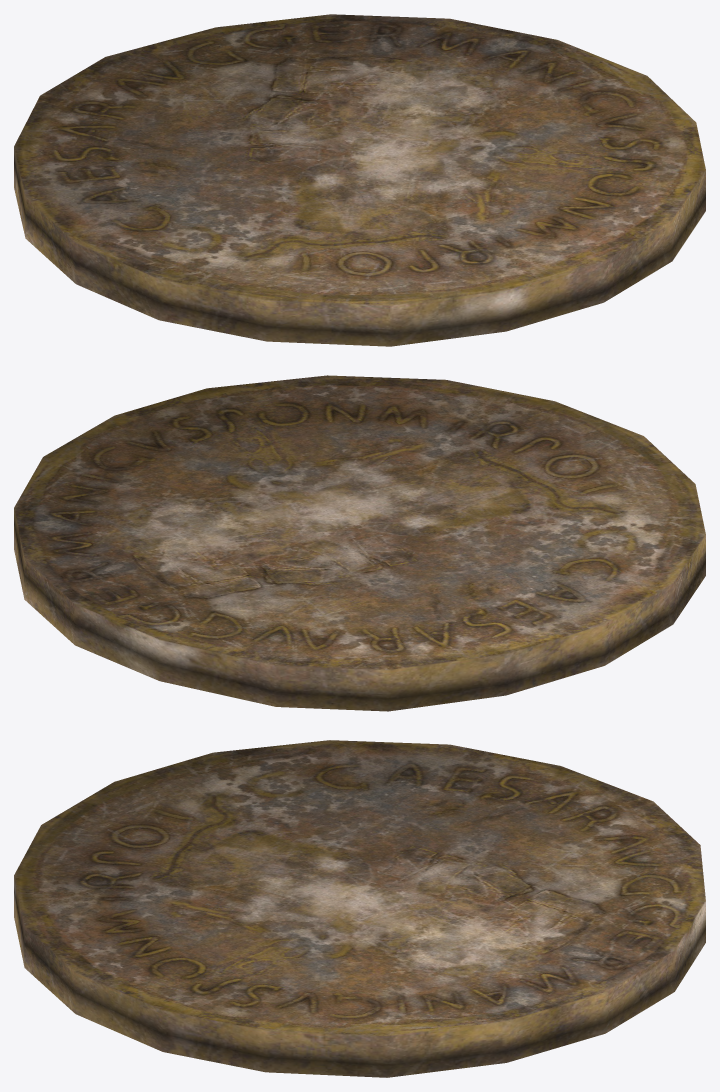
The model's file is ARC0510136.fbx.
The picture shows the model from 3 angles, top to bottom: view 1: azimuth 30°, elevation 25°; view 2: azimuth 150°, elevation 25°; view 3: azimuth 270°, elevation 25°; orthographic projection.
Visible parts, largest first — view 1: smARC0510136; view 2: smARC0510136; view 3: smARC0510136.
Part boxes in pixels (x1,y1,x2,y2): smARC0510136: (14,14,705,346); smARC0510136: (14,375,705,711); smARC0510136: (14,740,705,1077).
Bounding box in the file's own units: 8.22 × 0.5391 × 8.12.
Materials: 1 (1 with a texture image).
